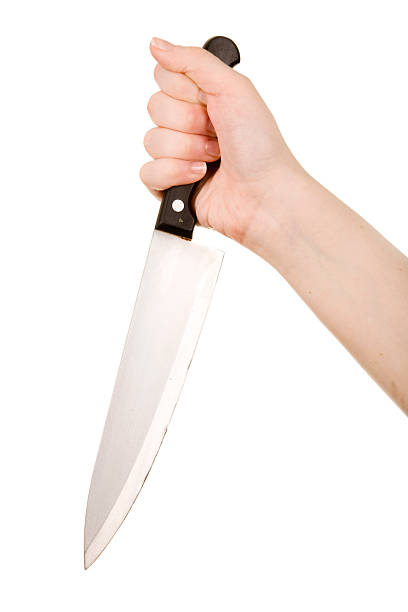knife: (81, 32, 243, 574)
